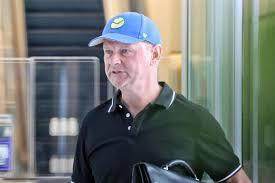cap: (88, 8, 165, 58)
